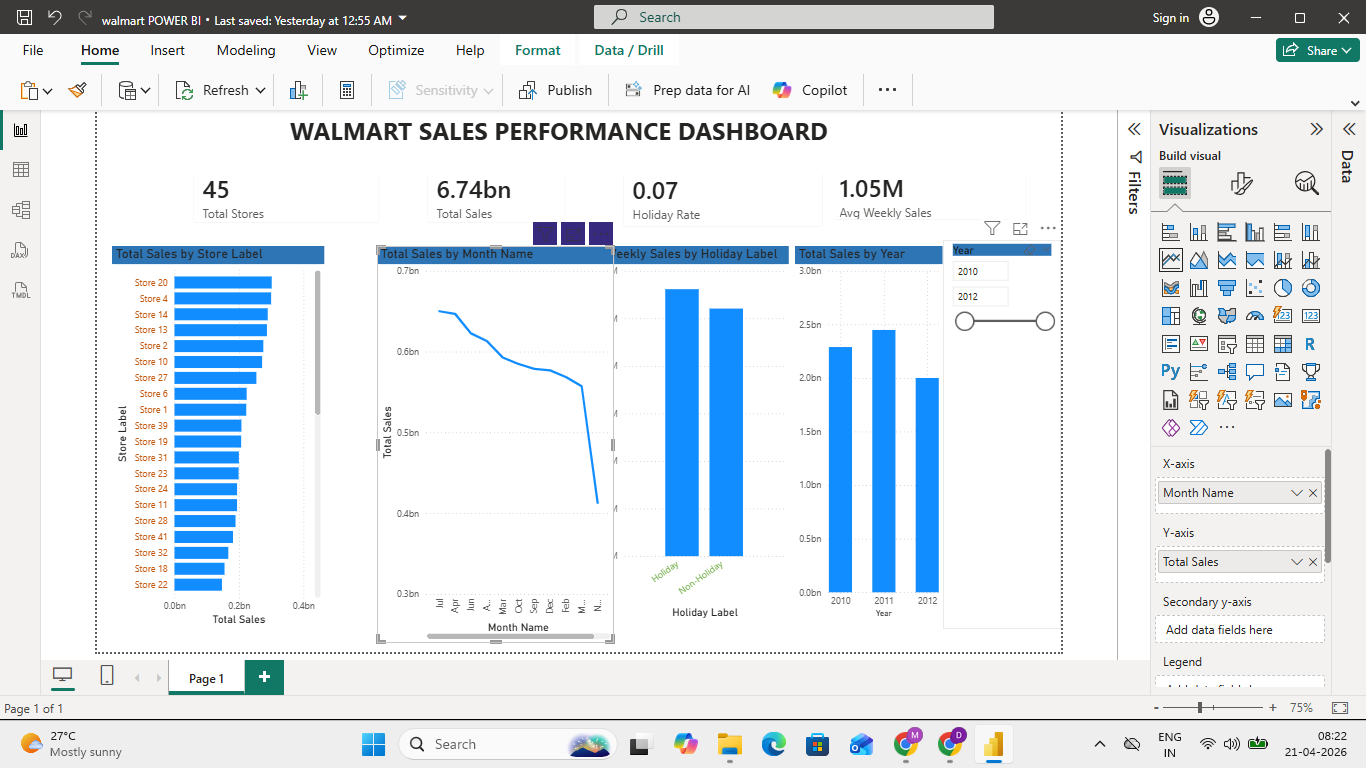

The page's visual inventory and layout, read from the dashboard file:
{"tool":"powerbi","page":{"name":"Page 1","canvas":[1280,720],"ordinal":0},"visuals":[{"type":"cardVisual","fields":{"Data":["Walmart.Total Sales"]},"box":[421.5,61.5,218,106.8],"z":0},{"type":"cardVisual","fields":{"Data":["Walmart.Avg Weekly Sales"]},"box":[957.1,61.5,295.6,102.4],"z":1000},{"type":"cardVisual","fields":{"Data":["Walmart.Total Stores"]},"box":[109.8,61.5,282.4,106.8],"z":2000},{"type":"cardVisual","fields":{"Data":["Walmart.Holiday Rate"]},"box":[682,58.5,300,114.1],"z":3000},{"type":"clusteredBarChart","fields":{"Category":["Walmart.Store Label"],"Y":["Walmart.Total Sales"]},"box":[20.5,180,282.4,509.3],"z":4000},{"type":"lineChart","fields":{"Category":["Walmart.Month Name"],"Y":["Walmart.Total Sales"]},"box":[372,180.7,314.8,527.4],"z":5000},{"type":"columnChart","fields":{"Category":["Walmart.Holiday Label"],"Y":["Walmart.Avg Weekly Sales"]},"box":[639.5,180,279.5,499],"z":6000},{"type":"clusteredColumnChart","fields":{"Category":["Walmart.Year"],"Y":["Walmart.Total Sales"]},"box":[927.8,180,196.1,499],"z":7000},{"type":"slicer","fields":{"Values":["Walmart.Year"]},"box":[1123.9,172.7,156.6,516.6],"z":8000},{"type":"textbox","box":[83.4,0,1197.1,84.9],"z":9000}]}

Visuals, with their boxes on the page's 1280x720 design canvas (x1, y1, x2, y2). These are canvas units, not pixel positions in the 1366x768 screenshot, which may show the page scaled, cropped or inside an application window:
cardVisual - Walmart.Total Sales: BBox(422, 62, 640, 168)
cardVisual - Walmart.Avg Weekly Sales: BBox(957, 62, 1253, 164)
cardVisual - Walmart.Total Stores: BBox(110, 62, 392, 168)
cardVisual - Walmart.Holiday Rate: BBox(682, 58, 982, 173)
clusteredBarChart - Walmart.Store Label x Walmart.Total Sales: BBox(20, 180, 303, 689)
lineChart - Walmart.Month Name x Walmart.Total Sales: BBox(372, 181, 687, 708)
columnChart - Walmart.Holiday Label x Walmart.Avg Weekly Sales: BBox(640, 180, 919, 679)
clusteredColumnChart - Walmart.Year x Walmart.Total Sales: BBox(928, 180, 1124, 679)
slicer - Walmart.Year: BBox(1124, 173, 1280, 689)
textbox: BBox(83, 0, 1280, 85)
